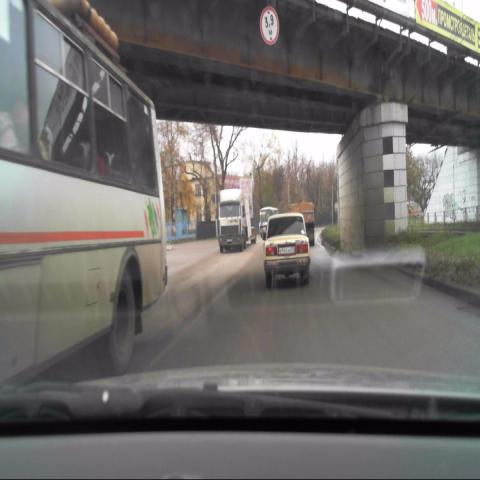3_13: (258, 4, 280, 48)
